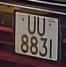1: (48, 37, 54, 61)
3: (39, 37, 49, 59)
8: (29, 35, 40, 57), (21, 33, 30, 55)
U: (27, 14, 37, 36), (37, 15, 47, 37)
